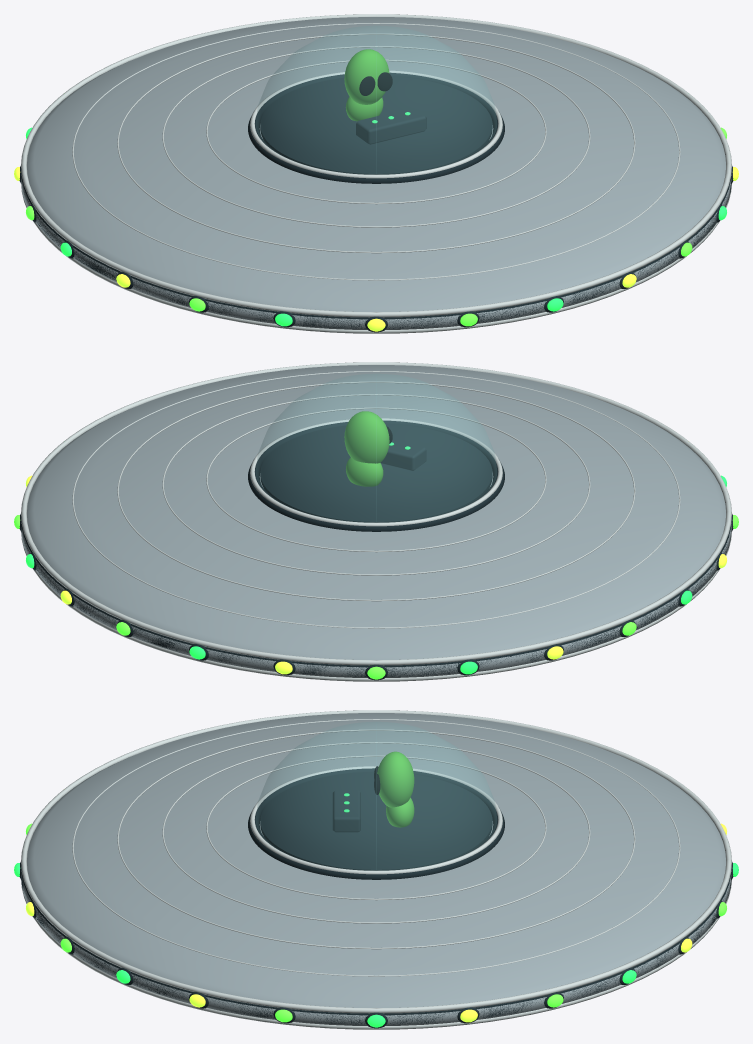
File: UFO.glb
3 views of the same model, one above another, from view 1: azimuth 30°, elevation 25°; view 2: azimuth 150°, elevation 25°; view 3: azimuth 270°, elevation 25° (orthographic).
Visible parts, largest first — view 1: UFO; view 2: UFO; view 3: UFO.
Part boxes in pixels (<box>): UFO: <box>14,14,738,333</box>; UFO: <box>14,362,738,681</box>; UFO: <box>14,710,738,1029</box>.
Size of the model in its own units: 6.12 by 1.8 by 6.12.
